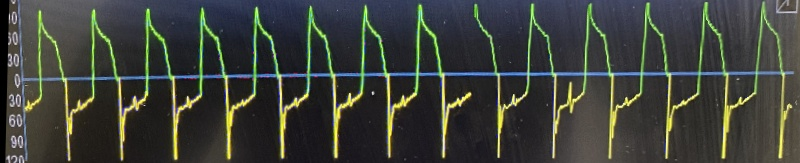hydrop_peepi: (4, 0, 800, 162)
